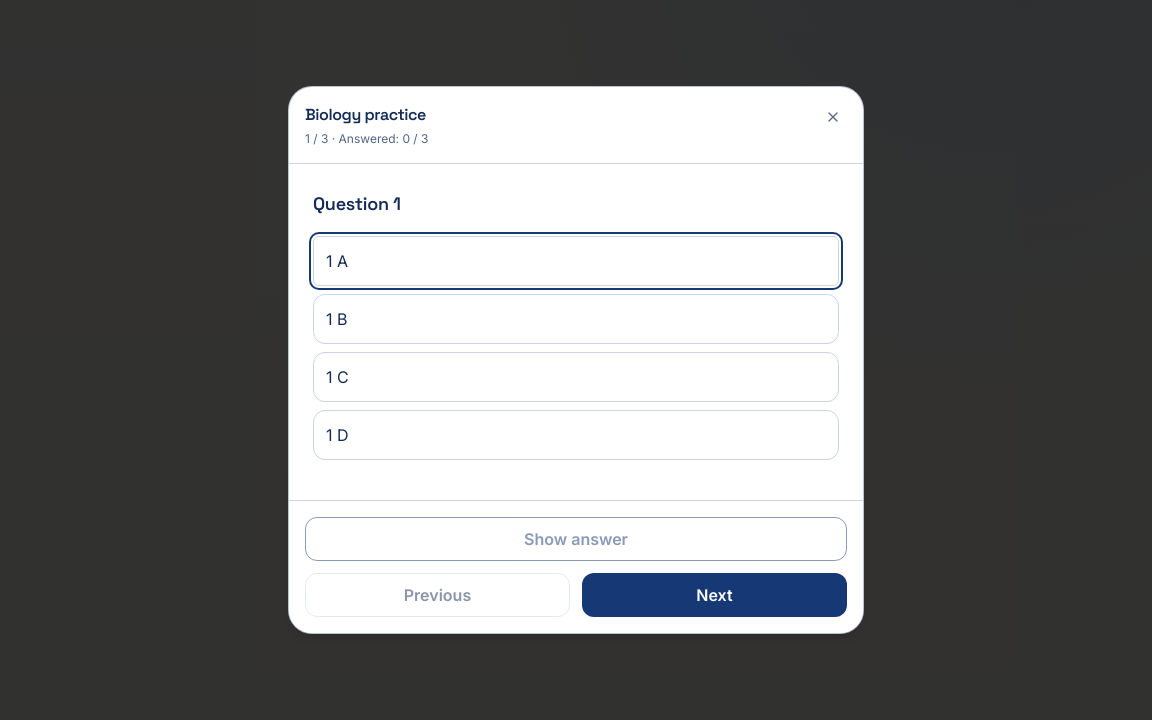
Scenario: teacher MCQ navigation › preserves a selected choice and a revealed explanation when returning to a question
The width and height of the screenshot is (1152, 720).
Click the button "1 B" at (337,319), box [313,294,839,344]
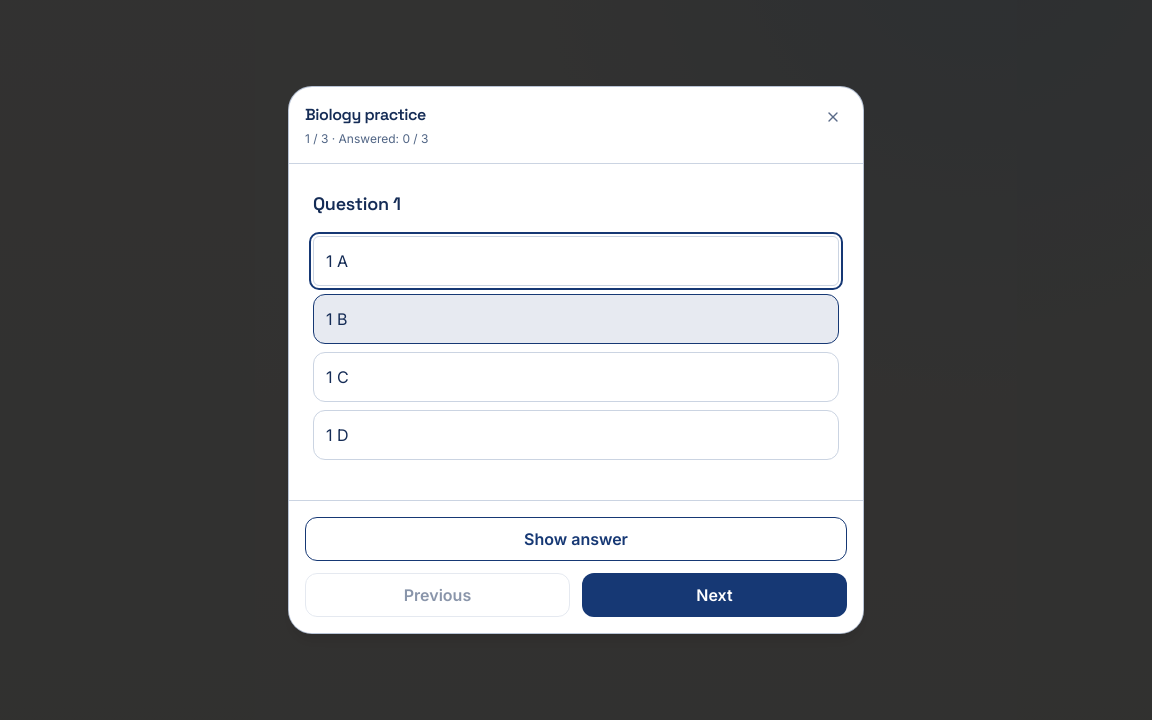
Click the button "Next" at (714,595), box [582,573,847,617]
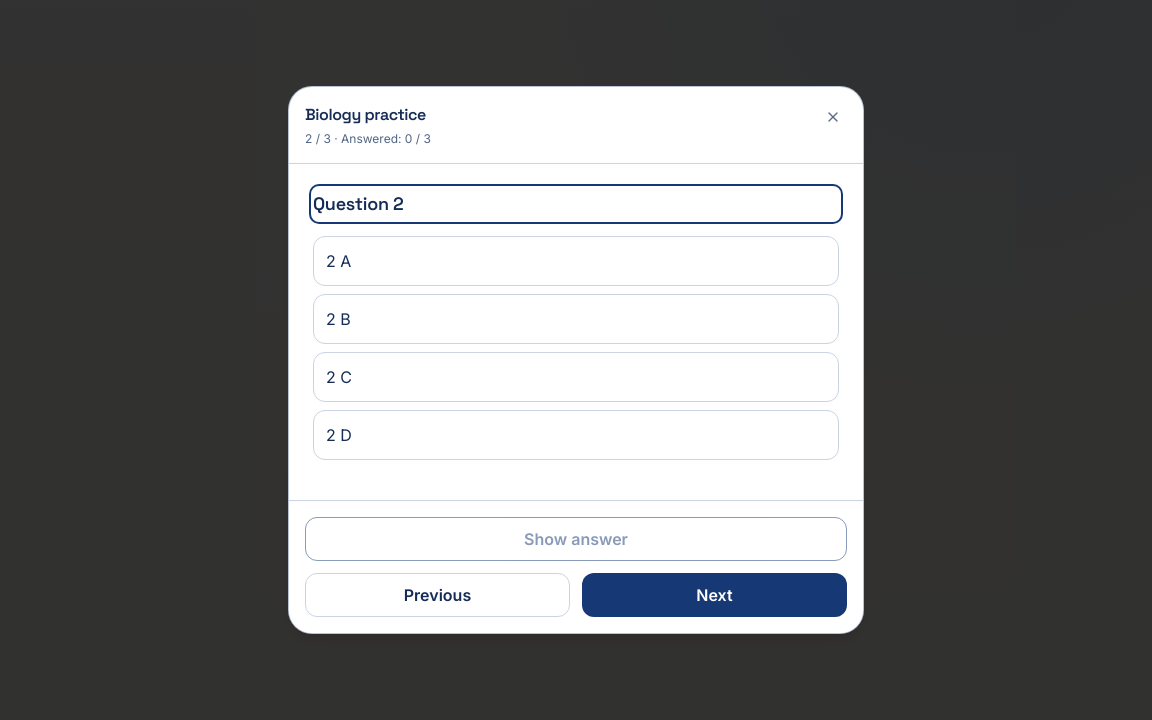
Click the button "Previous" at (438,595), box [305,573,570,617]
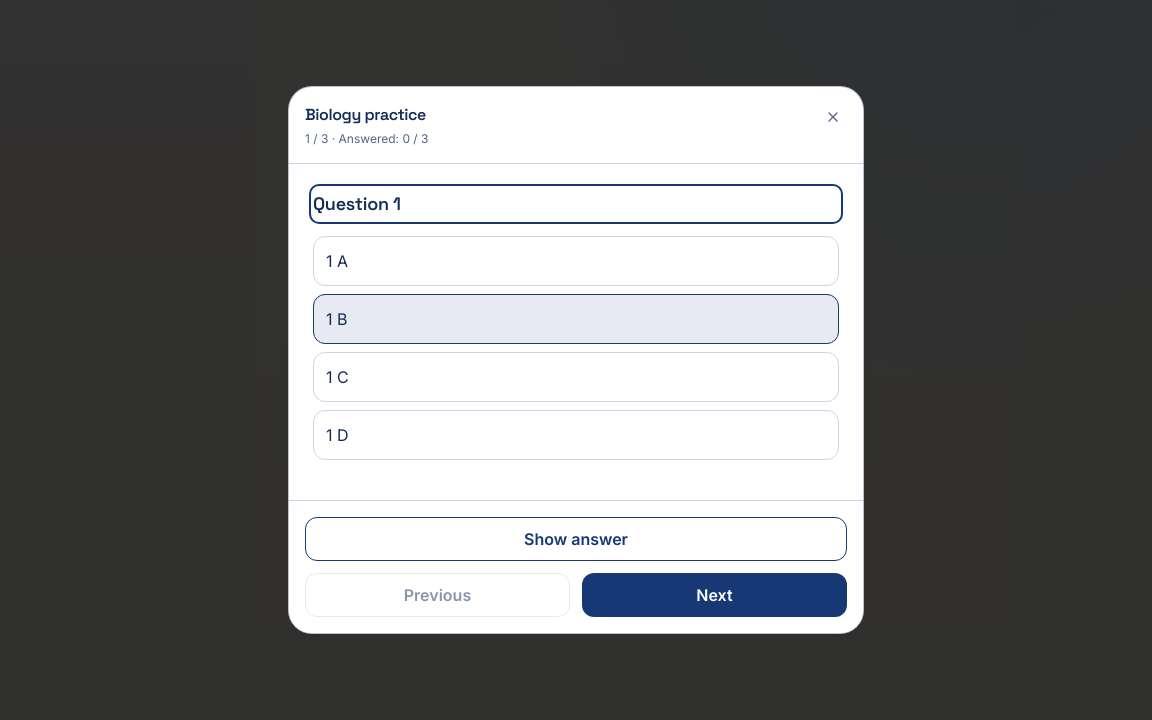
Check: the button "1 B" is pressed, box [313,294,839,344]
Click the button "Show answer" at (576,539), box [305,517,847,561]
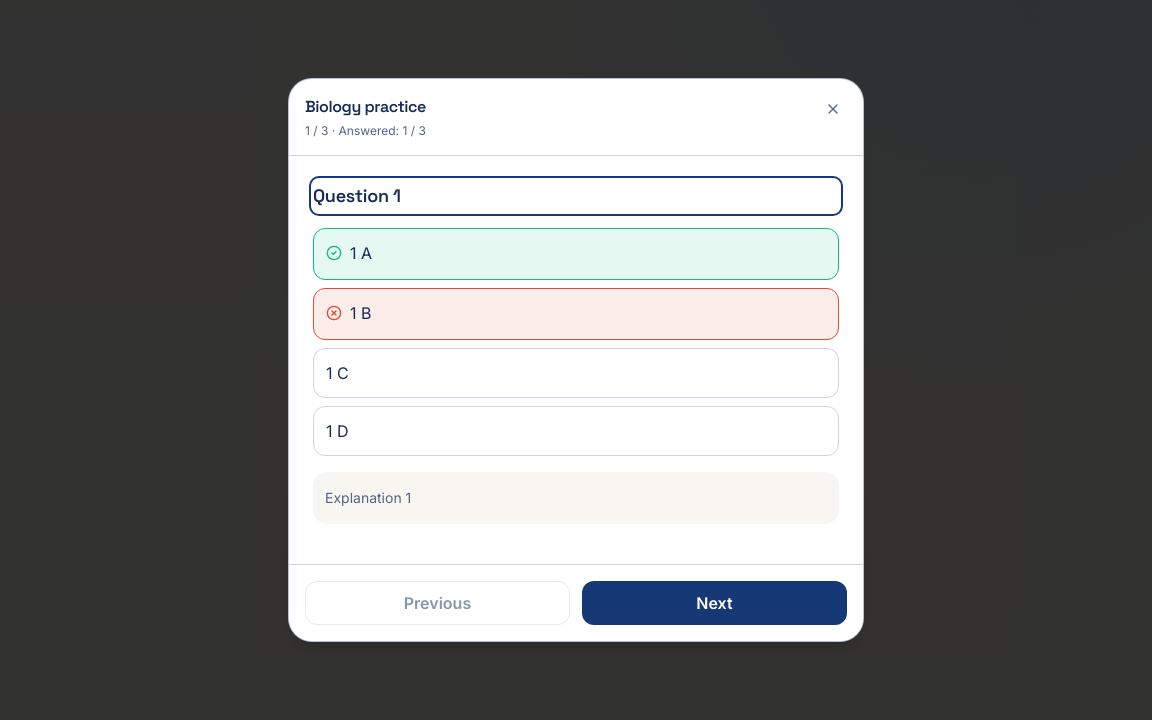
Check: the text "Explanation 1" is shown, box [313,472,839,524]
Click the button "Next" at (714,603), box [582,581,847,625]
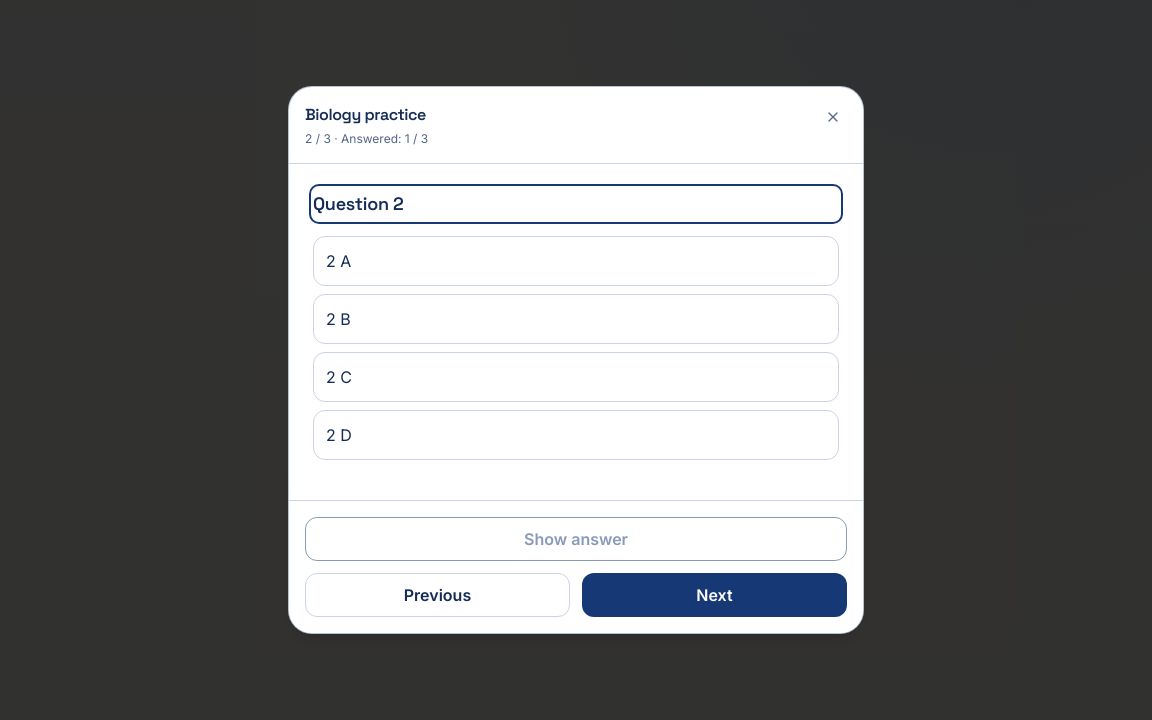
Click the button "Previous" at (438,595), box [305,573,570,617]
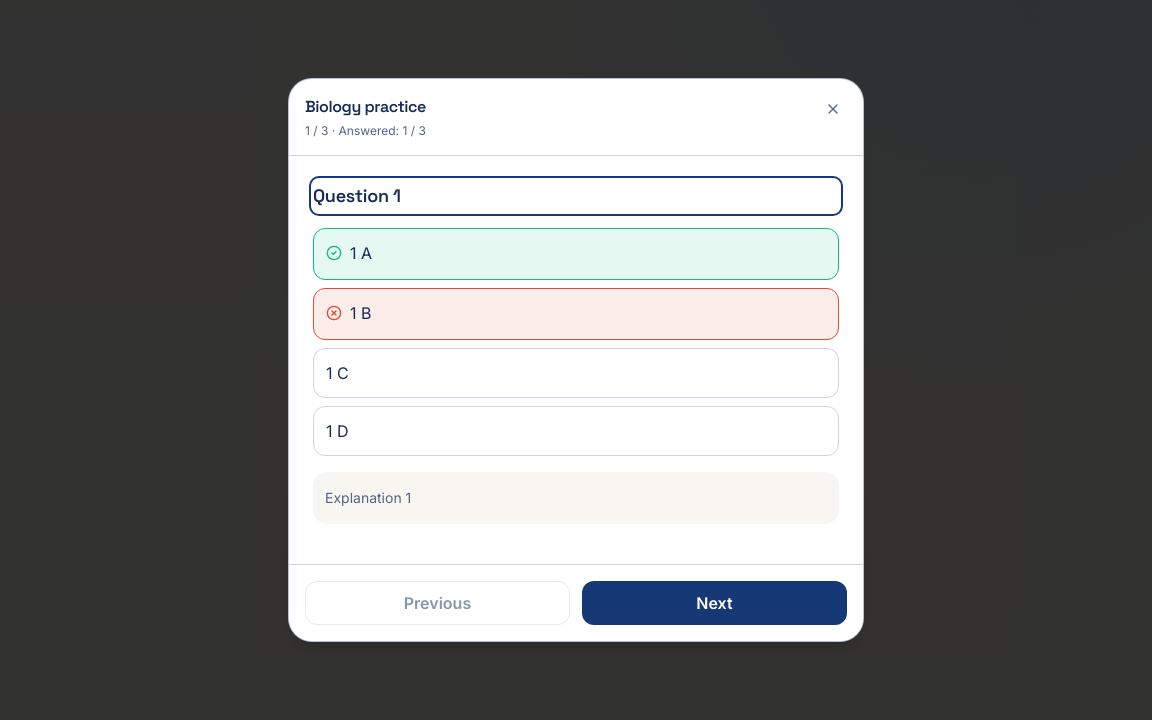
Check: the button "1 B" is disabled, box [313,288,839,340]
Check: the text "Explanation 1" is shown, box [313,472,839,524]
Check: the button "Show answer" is gone
